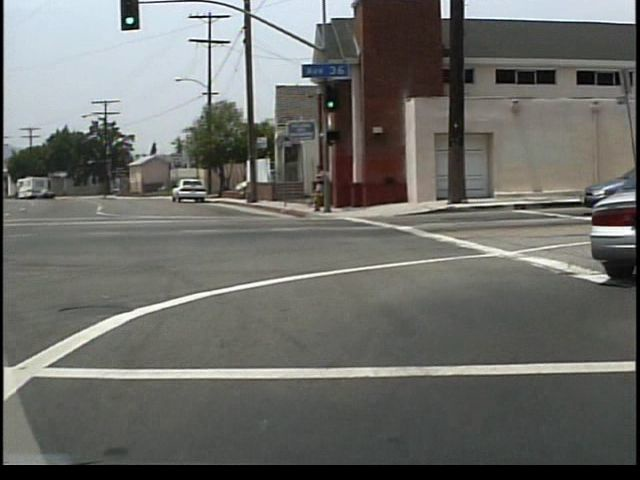person: (317, 164, 335, 213)
